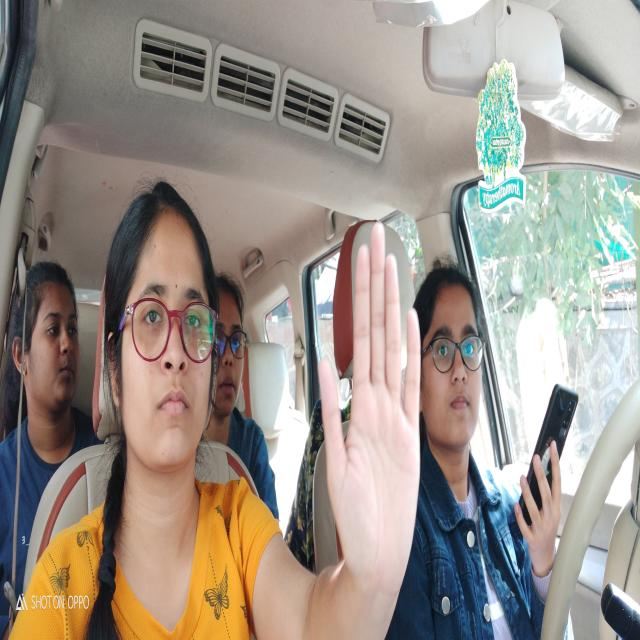mobile: (520, 384, 578, 532)
person: (104, 181, 210, 464), (413, 259, 487, 456), (21, 265, 86, 415), (215, 258, 251, 420)
